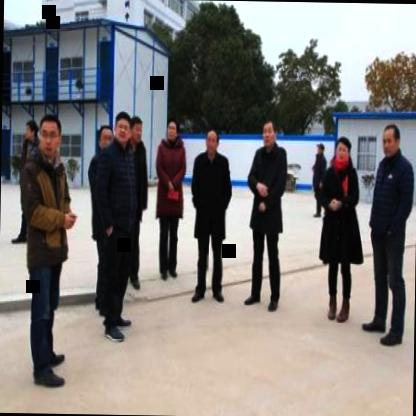head: (37, 109, 65, 158), (378, 119, 404, 160), (111, 110, 133, 148), (332, 134, 354, 166), (258, 116, 278, 149), (200, 126, 219, 158), (127, 114, 144, 148), (164, 113, 180, 146), (97, 122, 113, 154), (22, 118, 36, 144)
